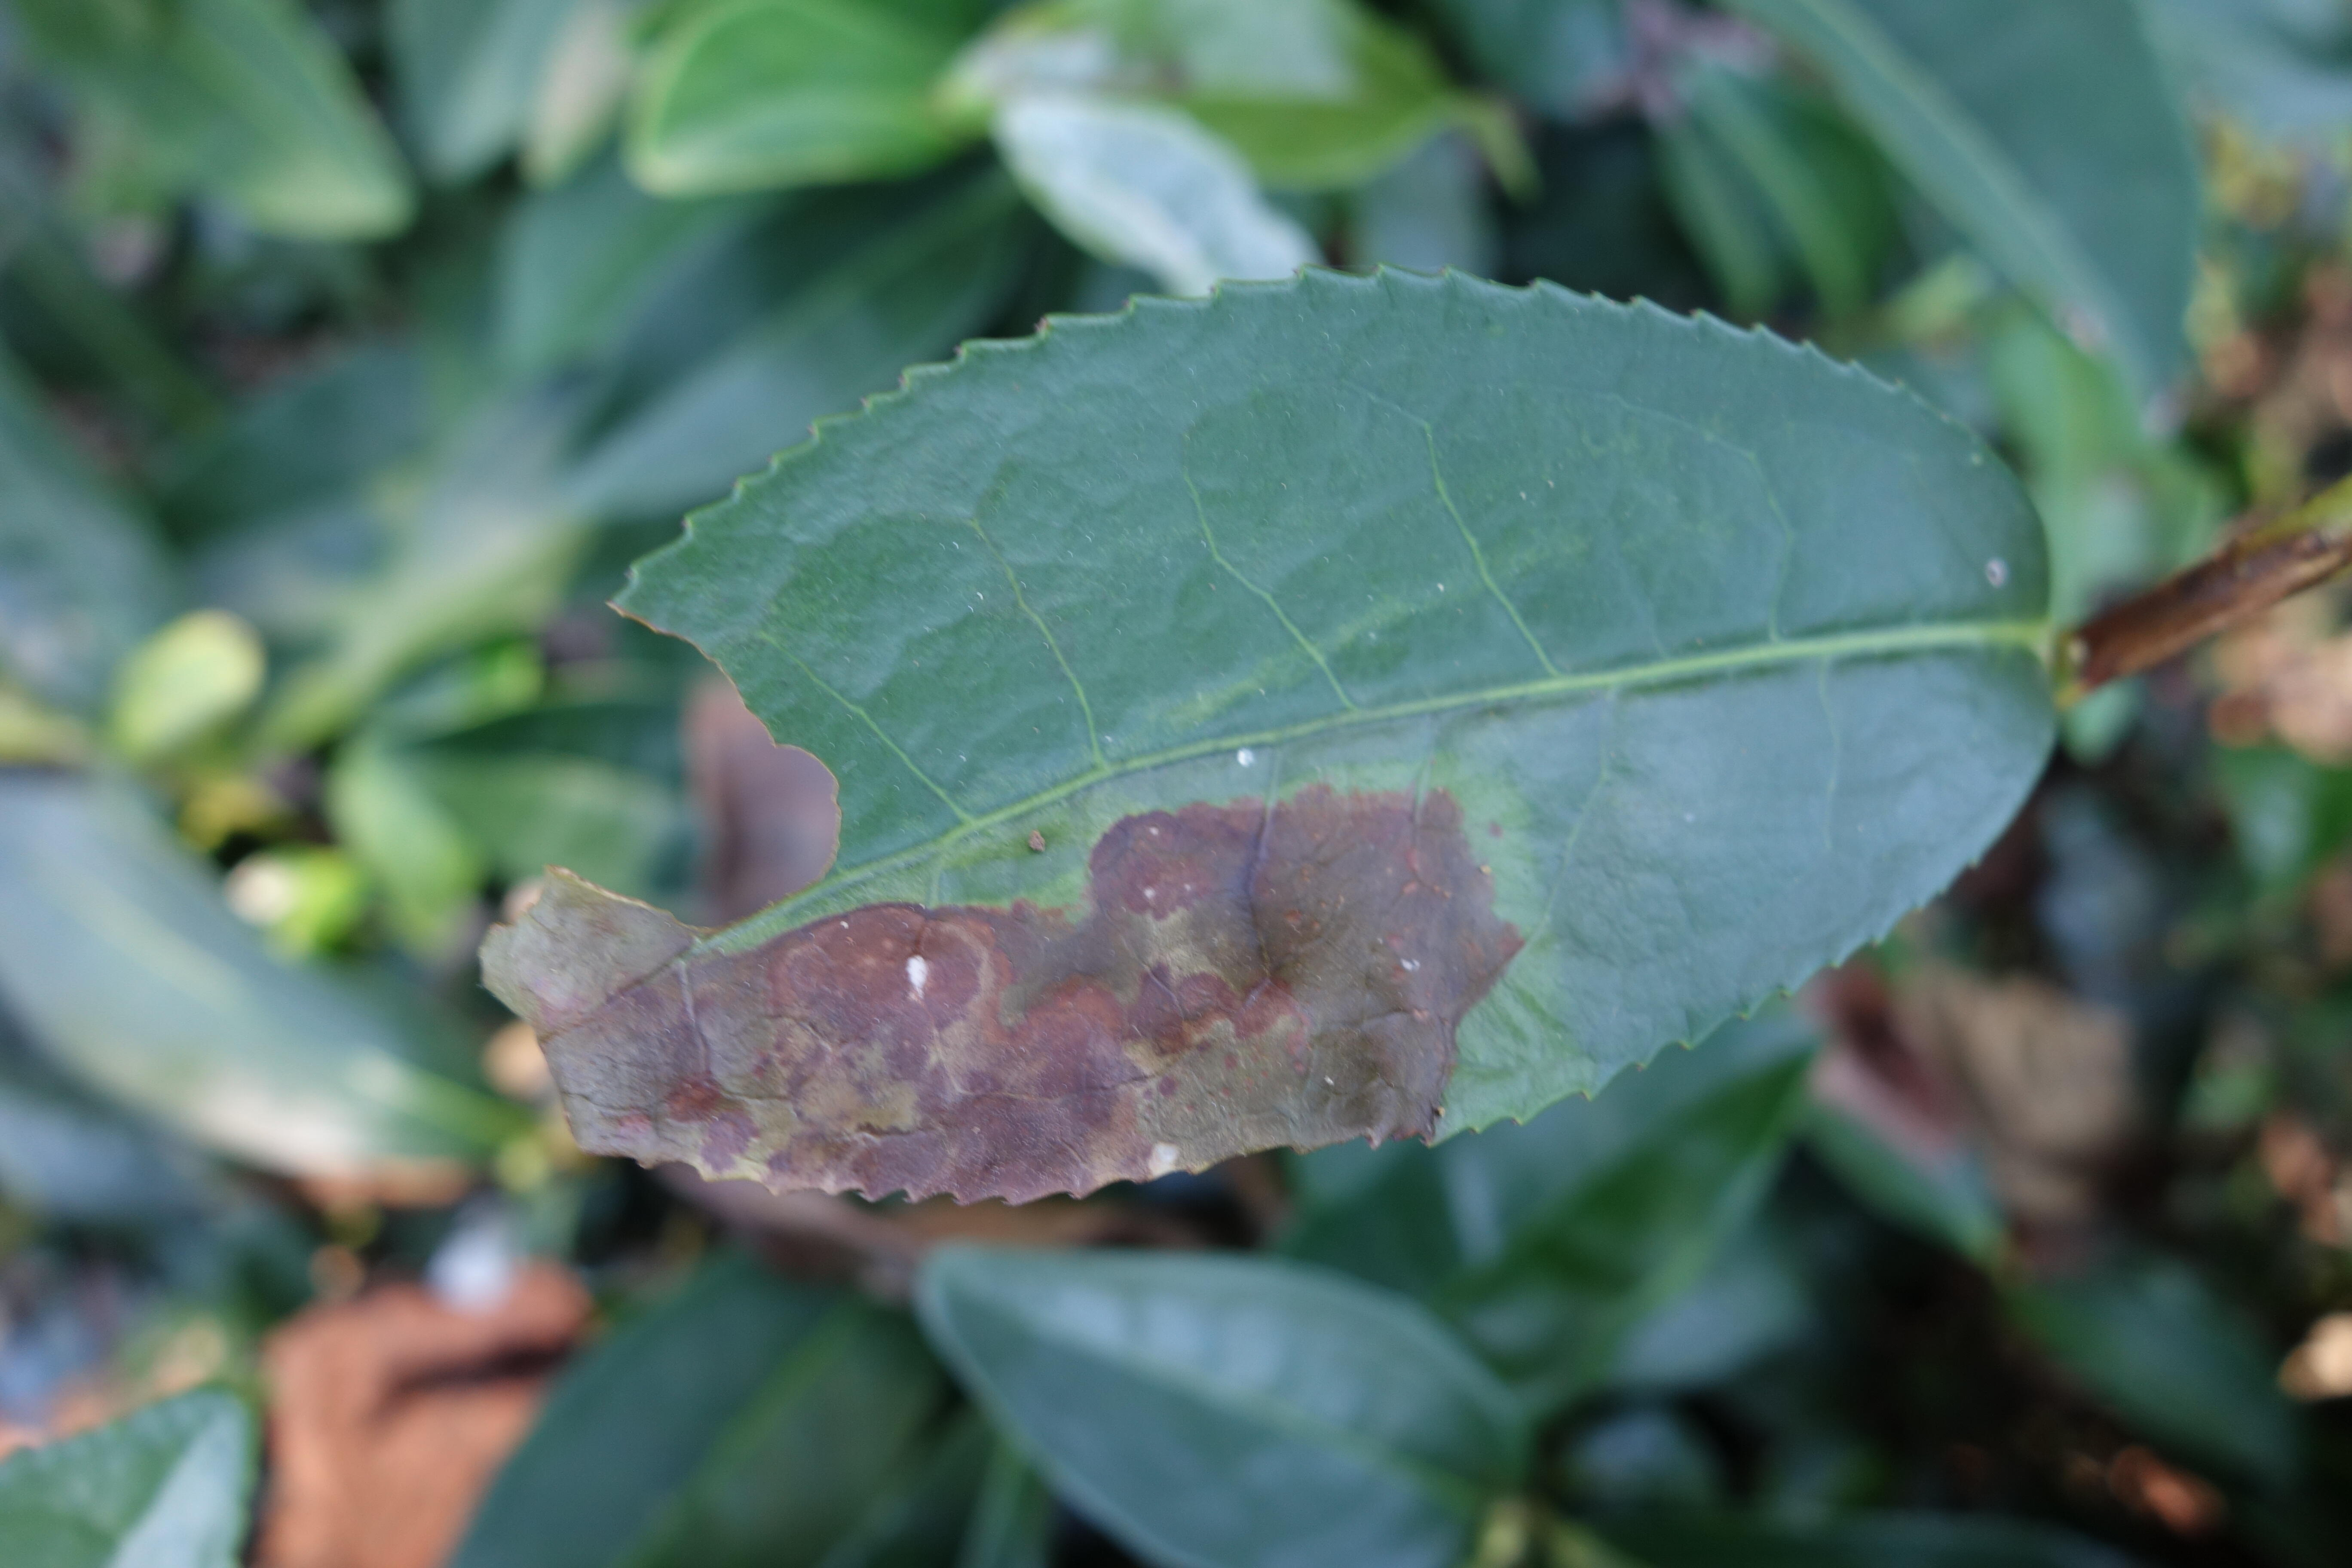tanju_high: (474, 257, 2067, 1211)
